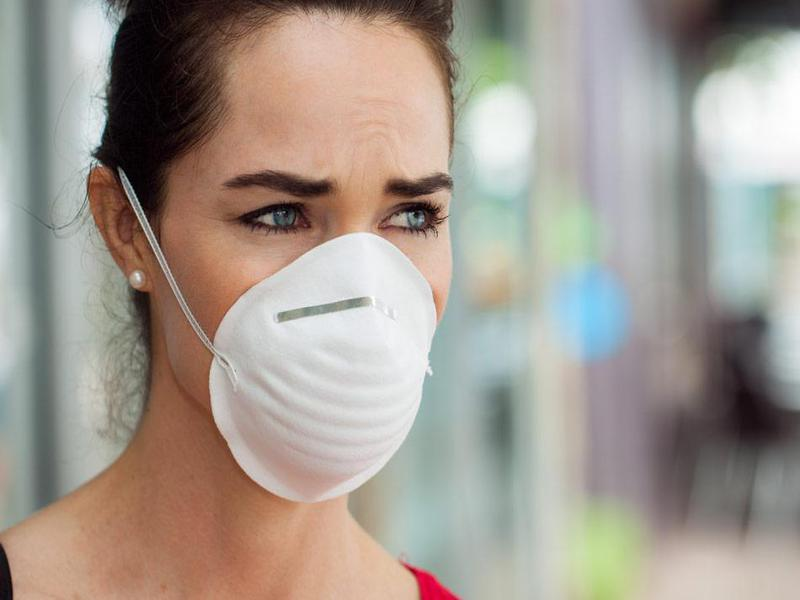with_mask: (89, 1, 458, 507)
